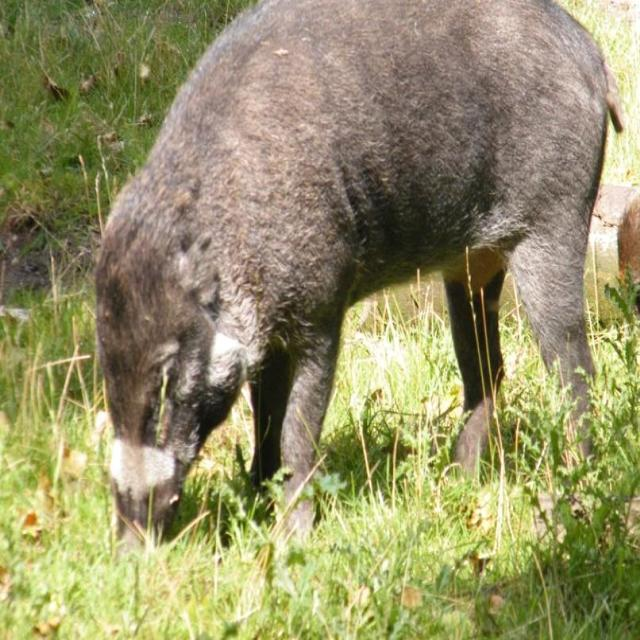pig: (96, 2, 622, 537)
